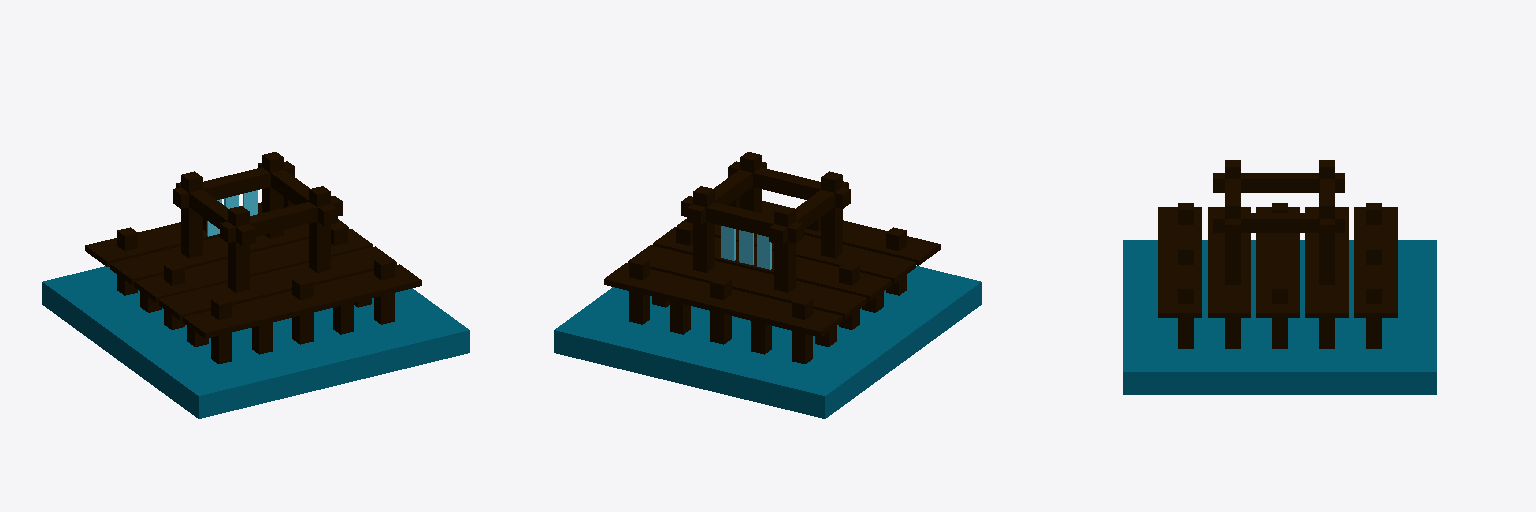
The model's file is Fishery1.obj.
3 views of the same model, side by side, from view 1: azimuth 30°, elevation 25°; view 2: azimuth 150°, elevation 25°; view 3: azimuth 270°, elevation 25° (orthographic).
Visible parts, largest first — view 1: Tilebase117, Box871, Box853, Box873, Box886, Box887, Box877, Box878, Box854, Box875, Box876, Box879 (+9 smaller); view 2: Tilebase117, Box887, Box886, Box873, Box853, Box871, Box878, Box877, Box874, Box876, Box875, Box879 (+9 smaller); view 3: Tilebase117, Box871, Box887, Box873, Box886, Box853, Box880, Box879, Box874, Box854, Box856, Box863 (+3 smaller).
Part boxes in pixels (x1,y1,x2,y2): Tilebase117: (42, 266, 469, 418); Box871: (183, 264, 421, 338); Box853: (159, 246, 396, 320); Box873: (134, 229, 372, 302); Box886: (110, 219, 348, 284); Box887: (85, 202, 261, 266); Box877: (220, 196, 342, 242); Box878: (173, 161, 294, 208); Box854: (309, 186, 330, 272); Box875: (228, 206, 249, 292); Box876: (181, 171, 202, 258); Box879: (176, 182, 255, 245); Tilebase117: (554, 266, 981, 418); Box887: (604, 263, 842, 337); Box886: (628, 245, 866, 318); Box873: (653, 227, 891, 300); Box853: (677, 219, 915, 283); Box871: (762, 201, 940, 265); Box878: (681, 196, 803, 243); Box877: (728, 161, 850, 208); Box874: (693, 186, 714, 272); Box876: (774, 206, 795, 292); Box875: (821, 171, 842, 258); Box879: (769, 181, 848, 244); Tilebase117: (1123, 240, 1436, 394); Box871: (1158, 207, 1201, 317); Box887: (1354, 207, 1397, 317); Box873: (1256, 207, 1299, 317); Box886: (1305, 207, 1348, 317); Box853: (1208, 207, 1250, 317); Box880: (1213, 213, 1344, 232); Box879: (1213, 173, 1344, 192); Box874: (1319, 200, 1334, 284); Box854: (1225, 200, 1240, 284); Box856: (1272, 283, 1287, 348); Box863: (1178, 283, 1193, 348).
Size of the model in its own units: 10 by 5.13 by 10.